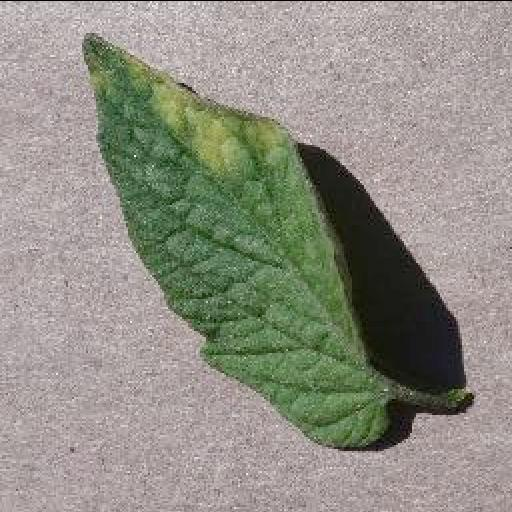disease_tomato: (77, 33, 391, 450)
